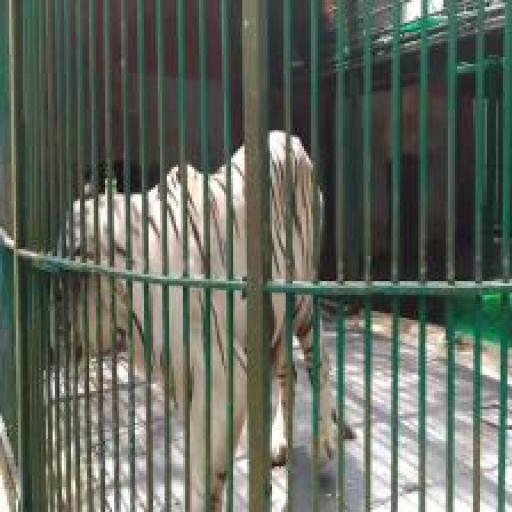Tiger: (48, 123, 366, 512)
